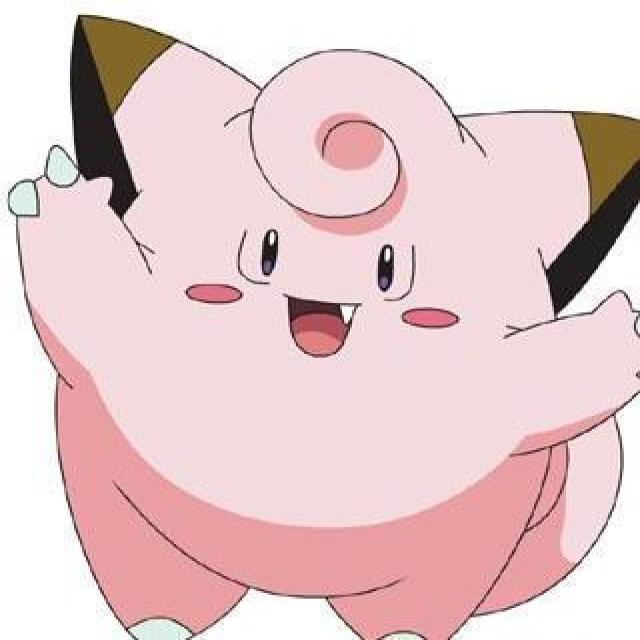Clefairy: (10, 2, 640, 640)
